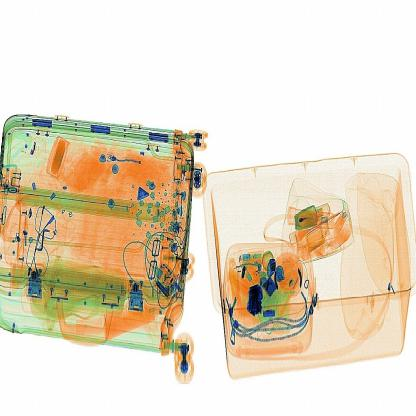scissors: (245, 277, 272, 324)
